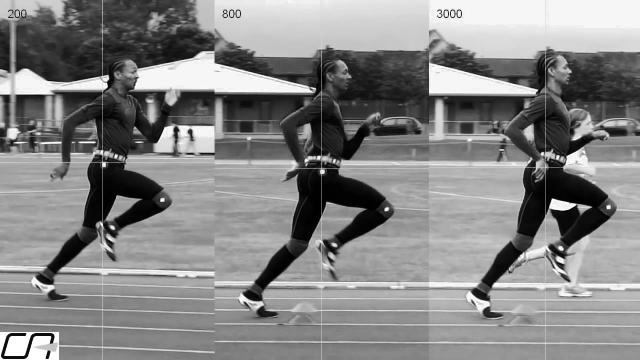berlari: (456, 40, 622, 318), (234, 44, 394, 318), (29, 44, 182, 308)
